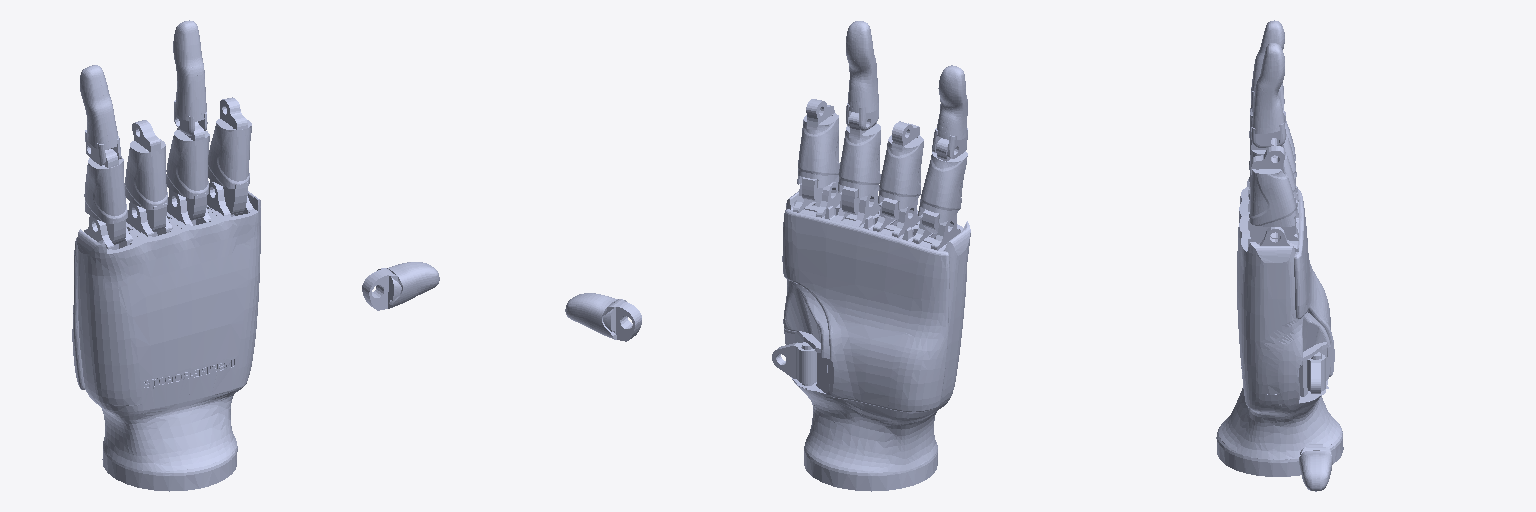
robot.urdf — hand:
<?xml version="1.0" encoding="utf-8"?>
<!-- This URDF was automatically created by SolidWorks to URDF Exporter! Originally created by [author] ([email redacted]) 
     Commit Version: 1.6.0-4-g7f85cfe  Build Version: 1.6.7995.38578
     For more information, please see http://wiki.ros.org/sw_urdf_exporter -->
<robot
  name="hand">
  <link
    name="palm">
    <inertial>
      <origin
        xyz="-0.0013307 0.0010114 0.062993"
        rpy="0 0 0" />
      <mass
        value="0.094529" />
      <inertia
        ixx="0.0001357"
        ixy="1.4777E-06"
        ixz="3.568E-07"
        iyy="0.00017087"
        iyz="1.1375E-06"
        izz="6.3659E-05" />
    </inertial>
    <visual>
      <origin
        xyz="0 0 0"
        rpy="0 0 0" />
      <geometry>
        <mesh
          filename="package://hand/meshes/palm.STL" />
      </geometry>
      <material
        name="">
        <color
          rgba="0.79216 0.81961 0.93333 1" />
      </material>
    </visual>
    <collision>
      <origin
        xyz="0 0 0"
        rpy="0 0 0" />
      <geometry>
        <mesh
          filename="package://hand/meshes/palm.STL" />
      </geometry>
    </collision>
  </link>
  <link
    name="thumb1">
    <inertial>
      <origin
        xyz="0.0040775 5.1448E-06 -8.4377E-06"
        rpy="0 0 0" />
      <mass
        value="0.00094362" />
      <inertia
        ixx="1.9603E-08"
        ixy="9.8917E-13"
        ixz="6.2515E-11"
        iyy="4.104E-08"
        iyz="-4.0962E-14"
        izz="2.901E-08" />
    </inertial>
    <visual>
      <origin
        xyz="0 0 0"
        rpy="0 0 0" />
      <geometry>
        <mesh
          filename="package://hand/meshes/thumb1.STL" />
      </geometry>
      <material
        name="">
        <color
          rgba="0.79216 0.81961 0.93333 1" />
      </material>
    </visual>
    <collision>
      <origin
        xyz="0 0 0"
        rpy="0 0 0" />
      <geometry>
        <mesh
          filename="package://hand/meshes/thumb1.STL" />
      </geometry>
    </collision>
  </link>
  <joint
    name="palm_thumb1"
    type="revolute">
    <origin
      xyz="0.021198 0.01582 0.053"
      rpy="0 0 0" />
    <parent
      link="palm" />
    <child
      link="thumb1" />
    <axis
      xyz="0 0 1" />
    <limit
      lower="-1.57"
      upper="1.57"
      effort="0"
      velocity="0" />
  </joint>
  <link
    name="thumb2">
    <inertial>
      <origin
        xyz="0.023578 -0.00022362 7.7799E-07"
        rpy="0 0 0" />
      <mass
        value="0.0094731" />
      <inertia
        ixx="9.8539E-07"
        ixy="1.3505E-07"
        ixz="1.9088E-10"
        iyy="2.3115E-06"
        iyz="1.1807E-10"
        izz="2.7955E-06" />
    </inertial>
    <visual>
      <origin
        xyz="0 0 0"
        rpy="0 0 0" />
      <geometry>
        <mesh
          filename="package://hand/meshes/thumb2.STL" />
      </geometry>
      <material
        name="">
        <color
          rgba="0.79216 0.81961 0.93333 1" />
      </material>
    </visual>
    <collision>
      <origin
        xyz="0 0 0"
        rpy="0 0 0" />
      <geometry>
        <mesh
          filename="package://hand/meshes/thumb2.STL" />
      </geometry>
    </collision>
  </link>
  <joint
    name="thumb_12"
    type="revolute">
    <origin
      xyz="0.011644 0 -5.656E-05"
      rpy="-1.5708 0 0" />
    <parent
      link="thumb1" />
    <child
      link="thumb2" />
    <axis
      xyz="0 0 -1" />
    <limit
      lower="-1.57"
      upper="1.57"
      effort="0"
      velocity="0" />
  </joint>
  <link
    name="thumb3">
    <inertial>
      <origin
        xyz="0.013839 0.00085022 2.7025E-06"
        rpy="0 0 0" />
      <mass
        value="0.006391" />
      <inertia
        ixx="4.7292E-07"
        ixy="-9.0106E-09"
        ixz="8.9883E-11"
        iyy="6.5656E-07"
        iyz="-2.3775E-10"
        izz="8.1196E-07" />
    </inertial>
    <visual>
      <origin
        xyz="0 0 0"
        rpy="0 0 0" />
      <geometry>
        <mesh
          filename="package://hand/meshes/thumb3.STL" />
      </geometry>
      <material
        name="">
        <color
          rgba="0.79216 0.81961 0.93333 1" />
      </material>
    </visual>
    <collision>
      <origin
        xyz="0 0 0"
        rpy="0 0 0" />
      <geometry>
        <mesh
          filename="package://hand/meshes/thumb3.STL" />
      </geometry>
    </collision>
  </link>
  <joint
    name="thumb_23"
    type="revolute">
    <origin
      xyz="0.043954 0 0"
      rpy="0 0 0" />
    <parent
      link="thumb2" />
    <child
      link="thumb3" />
    <axis
      xyz="0 0 -1" />
    <limit
      lower="-1.57"
      upper="1.57"
      effort="0"
      velocity="0" />
  </joint>
  <link
    name="thumb4">
    <inertial>
      <origin
        xyz="0.013621 0.00047042 7.267E-08"
        rpy="0 0 0" />
      <mass
        value="0.0039861" />
      <inertia
        ixx="1.0034E-07"
        ixy="1.8877E-08"
        ixz="1.7483E-12"
        iyy="2.8593E-07"
        iyz="-2.4367E-12"
        izz="2.98E-07" />
    </inertial>
    <visual>
      <origin
        xyz="0 0 0"
        rpy="0 0 0" />
      <geometry>
        <mesh
          filename="package://hand/meshes/thumb4.STL" />
      </geometry>
      <material
        name="">
        <color
          rgba="0.79216 0.81961 0.93333 1" />
      </material>
    </visual>
    <collision>
      <origin
        xyz="0 0 0"
        rpy="0 0 0" />
      <geometry>
        <mesh
          filename="package://hand/meshes/thumb4.STL" />
      </geometry>
    </collision>
  </link>
  <joint
    name="thumb_34"
    type="revolute">
    <origin
      xyz="0.029871 0 0"
      rpy="0 0 0" />
    <parent
      link="thumb3" />
    <child
      link="thumb4" />
    <axis
      xyz="0 0 -1" />
    <limit
      lower="-1.57"
      upper="1.57"
      effort="0"
      velocity="0" />
  </joint>
  <link
    name="index1">
    <inertial>
      <origin
        xyz="0.01519 -0.0017071 -1.0062E-06"
        rpy="0 0 0" />
      <mass
        value="0.0052421" />
      <inertia
        ixx="2.1523E-07"
        ixy="8.2486E-09"
        ixz="4.1897E-12"
        iyy="8.1651E-07"
        iyz="-4.8384E-11"
        izz="8.927E-07" />
    </inertial>
    <visual>
      <origin
        xyz="0 0 0"
        rpy="0 0 0" />
      <geometry>
        <mesh
          filename="package://hand/meshes/index1.STL" />
      </geometry>
      <material
        name="">
        <color
          rgba="0.79216 0.81961 0.93333 1" />
      </material>
    </visual>
    <collision>
      <origin
        xyz="0 0 0"
        rpy="0 0 0" />
      <geometry>
        <mesh
          filename="package://hand/meshes/index1.STL" />
      </geometry>
    </collision>
  </link>
  <joint
    name="palm_index1"
    type="revolute">
    <origin
      xyz="0.026145 -0.0020908 0.12443"
      rpy="0 -1.5359 0" />
    <parent
      link="palm" />
    <child
      link="index1" />
    <axis
      xyz="0 0.00060917 1" />
    <limit
      lower="-1.57"
      upper="1.57"
      effort="0"
      velocity="0" />
  </joint>
  <link
    name="index2">
    <inertial>
      <origin
        xyz="0.020114 -0.0023316 -3.1197E-06"
        rpy="0 0 0" />
      <mass
        value="0.0041819" />
      <inertia
        ixx="8.3265E-08"
        ixy="-4.8742E-08"
        ixz="-1.3487E-10"
        iyy="6.592E-07"
        iyz="-6.6485E-11"
        izz="6.6964E-07" />
    </inertial>
    <visual>
      <origin
        xyz="0 0 0"
        rpy="0 0 0" />
      <geometry>
        <mesh
          filename="package://hand/meshes/index2.STL" />
      </geometry>
      <material
        name="">
        <color
          rgba="0.79216 0.81961 0.93333 1" />
      </material>
    </visual>
    <collision>
      <origin
        xyz="0 0 0"
        rpy="0 0 0" />
      <geometry>
        <mesh
          filename="package://hand/meshes/index2.STL" />
      </geometry>
    </collision>
  </link>
  <joint
    name="index_12"
    type="revolute">
    <origin
      xyz="0.036321 0 0"
      rpy="0 0 0" />
    <parent
      link="index1" />
    <child
      link="index2" />
    <axis
      xyz="0 0.00060917 1" />
    <limit
      lower="-1.57"
      upper="1.57"
      effort="0"
      velocity="0" />
  </joint>
  <link
    name="middle1">
    <inertial>
      <origin
        xyz="0.014781 -0.0016035 1.0345E-07"
        rpy="0 0 0" />
      <mass
        value="0.0051082" />
      <inertia
        ixx="2.1368E-07"
        ixy="2.8666E-08"
        ixz="-9.5921E-12"
        iyy="7.7861E-07"
        iyz="-2.3932E-12"
        izz="8.5557E-07" />
    </inertial>
    <visual>
      <origin
        xyz="0 0 0"
        rpy="0 0 0" />
      <geometry>
        <mesh
          filename="package://hand/meshes/middle1.STL" />
      </geometry>
      <material
        name="">
        <color
          rgba="0.79216 0.81961 0.93333 1" />
      </material>
    </visual>
    <collision>
      <origin
        xyz="0 0 0"
        rpy="0 0 0" />
      <geometry>
        <mesh
          filename="package://hand/meshes/middle1.STL" />
      </geometry>
    </collision>
  </link>
  <joint
    name="palm_middle1"
    type="revolute">
    <origin
      xyz="0.0069479 -0.0020971 0.12479"
      rpy="0 -1.5708 0" />
    <parent
      link="palm" />
    <child
      link="middle1" />
    <axis
      xyz="0 0 1" />
    <limit
      lower="-1.57"
      upper="1.57"
      effort="0"
      velocity="0" />
  </joint>
  <link
    name="middle2">
    <inertial>
      <origin
        xyz="0.020341 -0.0024484 4.4802E-05"
        rpy="0 0 0" />
      <mass
        value="0.0042456" />
      <inertia
        ixx="8.5355E-08"
        ixy="-5.2791E-08"
        ixz="-4.1309E-10"
        iyy="6.8199E-07"
        iyz="-1.0381E-11"
        izz="6.9313E-07" />
    </inertial>
    <visual>
      <origin
        xyz="0 0 0"
        rpy="0 0 0" />
      <geometry>
        <mesh
          filename="package://hand/meshes/middle2.STL" />
      </geometry>
      <material
        name="">
        <color
          rgba="0.79216 0.81961 0.93333 1" />
      </material>
    </visual>
    <collision>
      <origin
        xyz="0 0 0"
        rpy="0 0 0" />
      <geometry>
        <mesh
          filename="package://hand/meshes/middle2.STL" />
      </geometry>
    </collision>
  </link>
  <joint
    name="middle_12"
    type="revolute">
    <origin
      xyz="0.035822 0 0"
      rpy="0 0 0" />
    <parent
      link="middle1" />
    <child
      link="middle2" />
    <axis
      xyz="0 0 1" />
    <limit
      lower="-1.57"
      upper="1.57"
      effort="0"
      velocity="0" />
  </joint>
  <link
    name="ring1">
    <inertial>
      <origin
        xyz="0.015715 -0.0016164 1.482E-06"
        rpy="0 0 0" />
      <mass
        value="0.005044" />
      <inertia
        ixx="2.0628E-07"
        ixy="2.8006E-09"
        ixz="-6.5184E-12"
        iyy="7.4369E-07"
        iyz="6.0329E-11"
        izz="8.1295E-07" />
    </inertial>
    <visual>
      <origin
        xyz="0 0 0"
        rpy="0 0 0" />
      <geometry>
        <mesh
          filename="package://hand/meshes/ring1.STL" />
      </geometry>
      <material
        name="">
        <color
          rgba="0.79216 0.81961 0.93333 1" />
      </material>
    </visual>
    <collision>
      <origin
        xyz="0 0 0"
        rpy="0 0 0" />
      <geometry>
        <mesh
          filename="package://hand/meshes/ring1.STL" />
      </geometry>
    </collision>
  </link>
  <joint
    name="palm_ring1"
    type="revolute">
    <origin
      xyz="-0.012095 -0.0020884 0.12429"
      rpy="-3.1416 -1.5184 3.1416" />
    <parent
      link="palm" />
    <child
      link="ring1" />
    <axis
      xyz="0 0.00091329 1" />
    <limit
      lower="-1.57"
      upper="1.57"
      effort="0"
      velocity="0" />
  </joint>
  <link
    name="ring2">
    <inertial>
      <origin
        xyz="0.020136 -0.0021343 2.8584E-06"
        rpy="0 0 0" />
      <mass
        value="0.0042224" />
      <inertia
        ixx="8.371E-08"
        ixy="-4.4514E-08"
        ixz="1.1386E-10"
        iyy="6.7979E-07"
        iyz="3.0518E-11"
        izz="6.8975E-07" />
    </inertial>
    <visual>
      <origin
        xyz="0 0 0"
        rpy="0 0 0" />
      <geometry>
        <mesh
          filename="package://hand/meshes/ring2.STL" />
      </geometry>
      <material
        name="">
        <color
          rgba="0.79216 0.81961 0.93333 1" />
      </material>
    </visual>
    <collision>
      <origin
        xyz="0 0 0"
        rpy="0 0 0" />
      <geometry>
        <mesh
          filename="package://hand/meshes/ring2.STL" />
      </geometry>
    </collision>
  </link>
  <joint
    name="ring_12"
    type="revolute">
    <origin
      xyz="0.036089 0 0"
      rpy="0 0 0" />
    <parent
      link="ring1" />
    <child
      link="ring2" />
    <axis
      xyz="0 0.00091329 1" />
    <limit
      lower="-1.57"
      upper="1.57"
      effort="0"
      velocity="0" />
  </joint>
  <link
    name="little1">
    <inertial>
      <origin
        xyz="0.015515 -0.0020772 3.7962E-06"
        rpy="0 0 0" />
      <mass
        value="0.004837" />
      <inertia
        ixx="1.9887E-07"
        ixy="1.9574E-08"
        ixz="-3.2281E-11"
        iyy="6.9992E-07"
        iyz="1.1589E-10"
        izz="7.6407E-07" />
    </inertial>
    <visual>
      <origin
        xyz="0 0 0"
        rpy="0 0 0" />
      <geometry>
        <mesh
          filename="package://hand/meshes/little1.STL" />
      </geometry>
      <material
        name="">
        <color
          rgba="0.79216 0.81961 0.93333 1" />
      </material>
    </visual>
    <collision>
      <origin
        xyz="0 0 0"
        rpy="0 0 0" />
      <geometry>
        <mesh
          filename="package://hand/meshes/little1.STL" />
      </geometry>
    </collision>
  </link>
  <joint
    name="palm_little1"
    type="revolute">
    <origin
      xyz="-0.031086 -0.0020623 0.1228"
      rpy="3.1416 -1.4661 3.1416" />
    <parent
      link="palm" />
    <child
      link="little1" />
    <axis
      xyz="0 0.0018242 1" />
    <limit
      lower="-1.57"
      upper="1.57"
      effort="0"
      velocity="0" />
  </joint>
  <link
    name="little2">
    <inertial>
      <origin
        xyz="0.016676 -0.0028045 -3.7906E-05"
        rpy="0 0 0" />
      <mass
        value="0.0035295" />
      <inertia
        ixx="7.2229E-08"
        ixy="-4.2588E-08"
        ixz="4.4869E-10"
        iyy="4.1119E-07"
        iyz="3.255E-11"
        izz="4.1902E-07" />
    </inertial>
    <visual>
      <origin
        xyz="0 0 0"
        rpy="0 0 0" />
      <geometry>
        <mesh
          filename="package://hand/meshes/little2.STL" />
      </geometry>
      <material
        name="">
        <color
          rgba="0.79216 0.81961 0.93333 1" />
      </material>
    </visual>
    <collision>
      <origin
        xyz="0 0 0"
        rpy="0 0 0" />
      <geometry>
        <mesh
          filename="package://hand/meshes/little2.STL" />
      </geometry>
    </collision>
  </link>
  <joint
    name="little_12"
    type="revolute">
    <origin
      xyz="0.035646 0 0"
      rpy="0 0 0" />
    <parent
      link="little1" />
    <child
      link="little2" />
    <axis
      xyz="0 0.0018242 1" />
    <limit
      lower="-1.57"
      upper="1.57"
      effort="0"
      velocity="0" />
  </joint>
</robot>

--- Render facts (derived) ---
The picture shows the robot from 3 angles, left to right: view 1: azimuth 30°, elevation 25°; view 2: azimuth 150°, elevation 25°; view 3: azimuth 270°, elevation 25°; orthographic projection.
Model hand with 13 links and 12 joints (12 revolute), rooted at palm, posed every joint at zero.
Visible links, largest first — view 1: palm, index1, ring1, middle2, middle1, little1, little2, thumb4; view 2: palm, index1, ring1, middle1, little1, middle2, thumb4, little2, thumb1; view 3: palm, index1, middle2, thumb4, little2, thumb1.
Boxes of the visible links, <box> form: palm: <box>72,182,260,491</box>; index1: <box>208,97,251,214</box>; ring1: <box>125,120,167,231</box>; middle2: <box>173,20,207,135</box>; middle1: <box>166,121,209,220</box>; little1: <box>84,149,127,244</box>; little2: <box>80,65,121,165</box>; thumb4: <box>362,262,439,310</box>; palm: <box>782,182,970,491</box>; index1: <box>797,99,839,203</box>; ring1: <box>878,121,923,219</box>; middle1: <box>838,112,880,214</box>; little1: <box>918,138,967,233</box>; middle2: <box>846,21,878,130</box>; thumb4: <box>565,293,641,341</box>; little2: <box>932,65,967,158</box>; thumb1: <box>772,342,816,383</box>; palm: <box>1216,179,1343,476</box>; index1: <box>1249,146,1296,243</box>; middle2: <box>1251,43,1285,148</box>; thumb4: <box>1299,444,1332,491</box>; little2: <box>1251,20,1284,111</box>; thumb1: <box>1307,354,1325,393</box>.
Bounding box of the posed robot: 0.1798 × 0.0559 × 0.2008 m (x, y, z).
Meshes: 13 distinct files referenced, 9 mesh visuals loaded (9 binary STL); not drawn: 4 (reference not matched to a file when rendering).